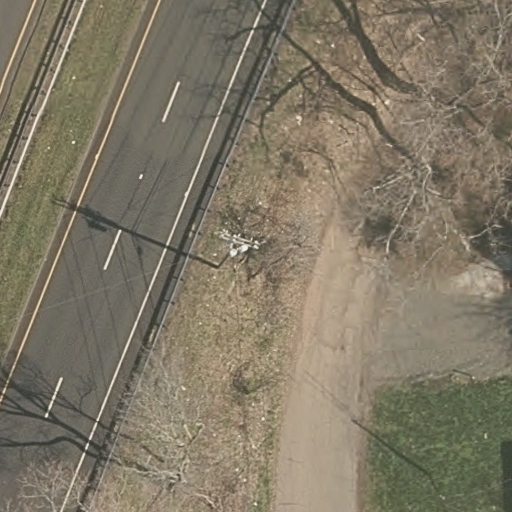DT: (202, 219, 267, 279)
